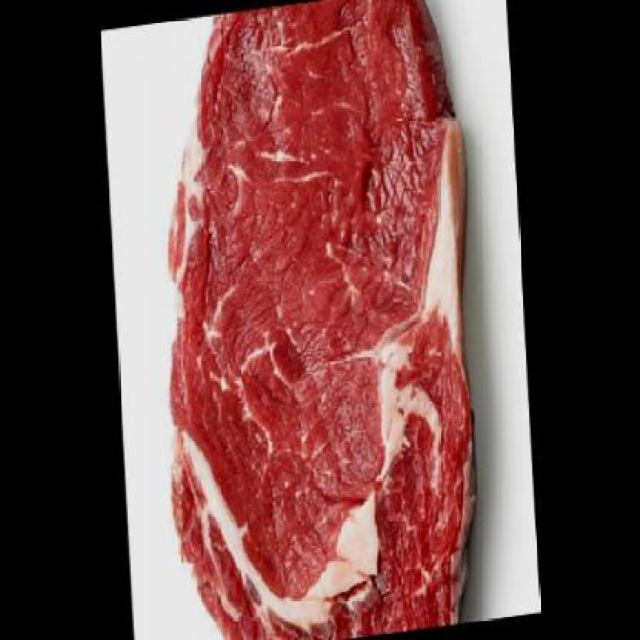beef: (141, 0, 493, 638)
